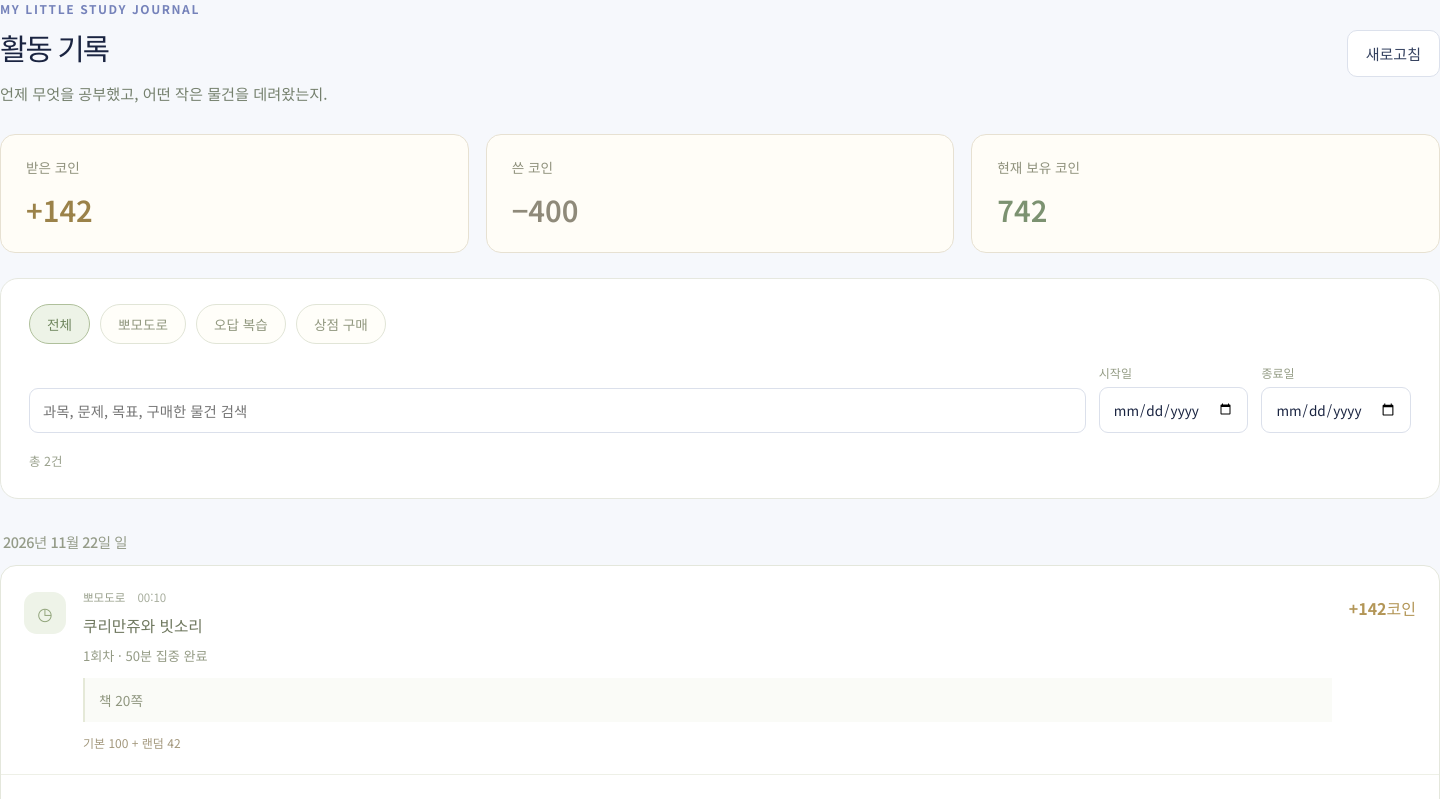
Scenario: 한국 날짜별 보상·구매 금액과 목표를 보여주고 종류로 필터링한다
Check: the text "+142코인" is shown, box x1=1349 y1=589 x2=1416 y2=620
Check: the text "책 20쪽" is shown, box x1=99 y1=690 x2=143 y2=710
Click the button "상점 구매": (341, 324) x1=296 y1=304 x2=386 y2=344
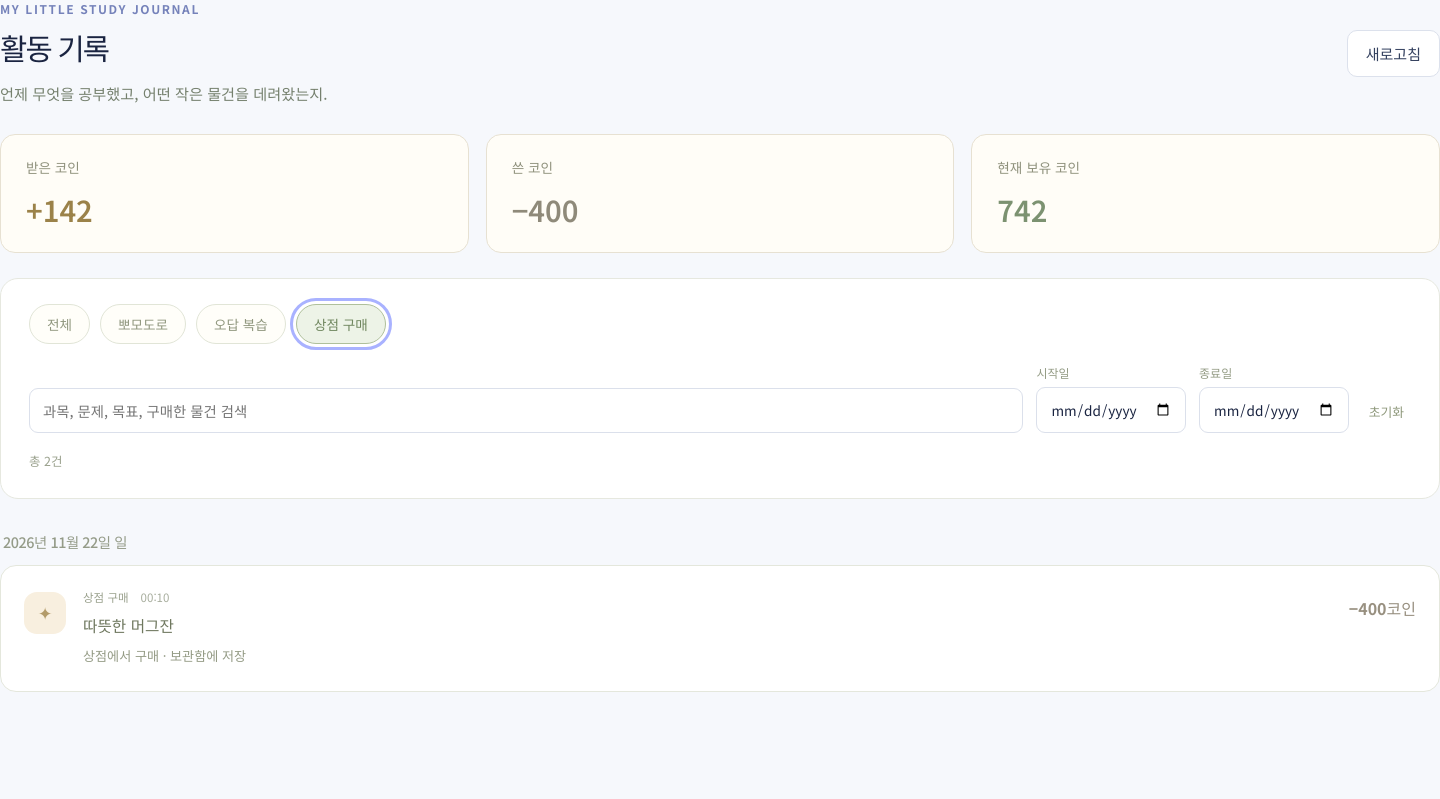
Check: the heading "따뜻한 머그잔" is shown, box x1=83 y1=614 x2=174 y2=637
Check: the text "+142코인" is gone
